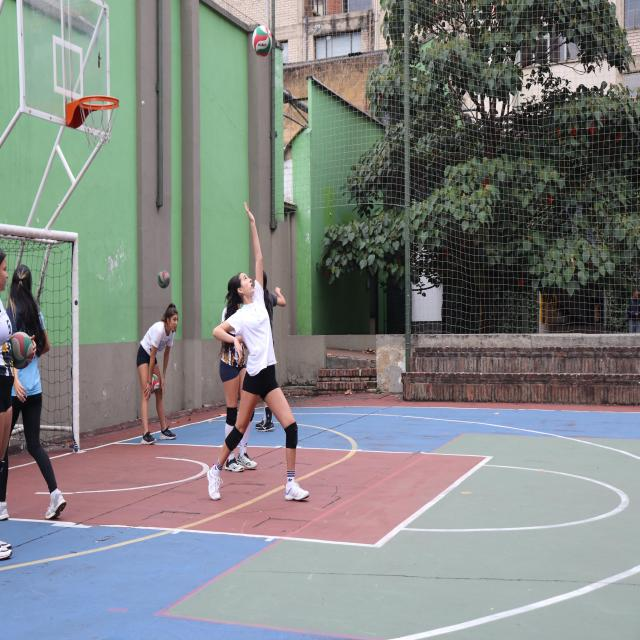volleyball: (8, 331, 34, 369), (252, 26, 273, 57), (157, 270, 170, 289), (151, 374, 160, 394)
